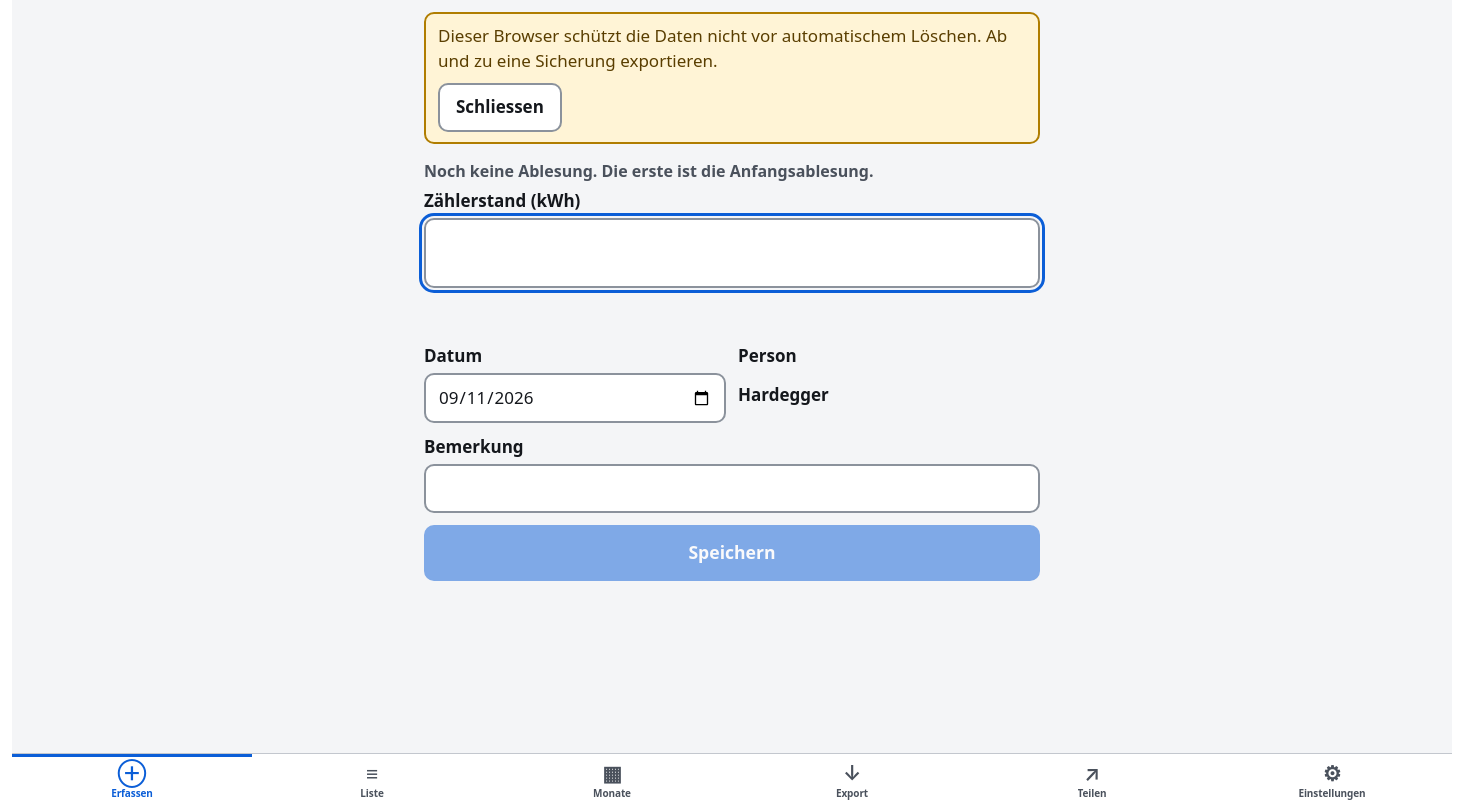
Scenario: the reading list (FR-4) › says so when there is nothing to list
Click the button "≡ Liste": (372, 782) [252,754,492,809]
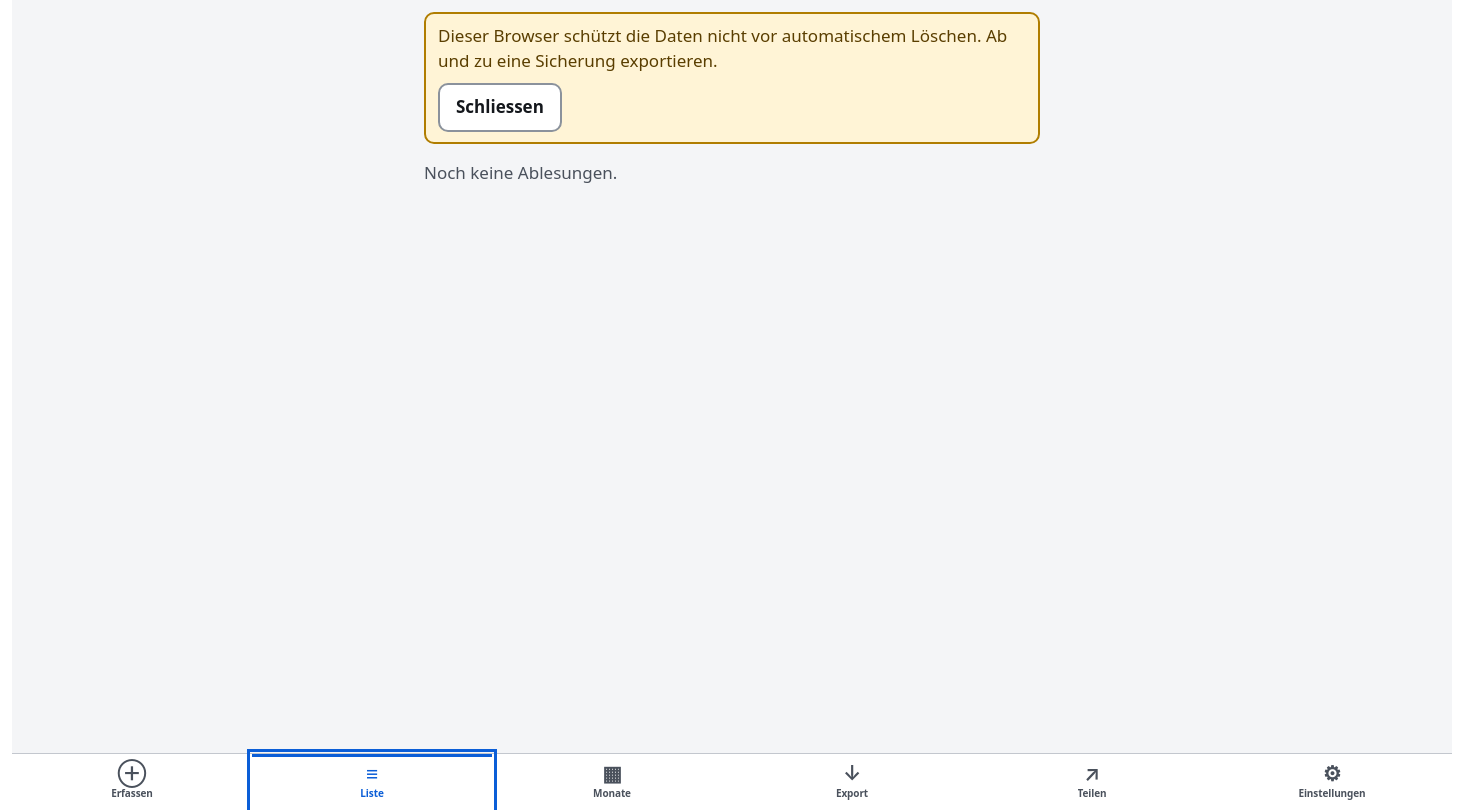
Expected: the text "Noch keine Ablesungen." is shown, [424,161,617,184]
